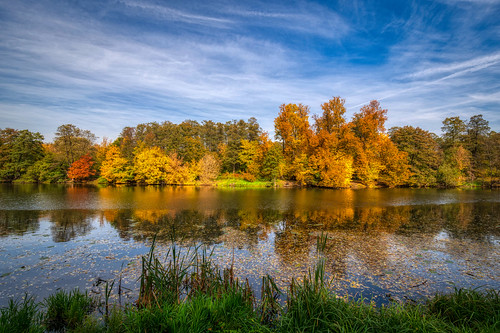river: (8, 190, 500, 288)
sky: (1, 1, 498, 122)
vegetation: (1, 114, 500, 190)
